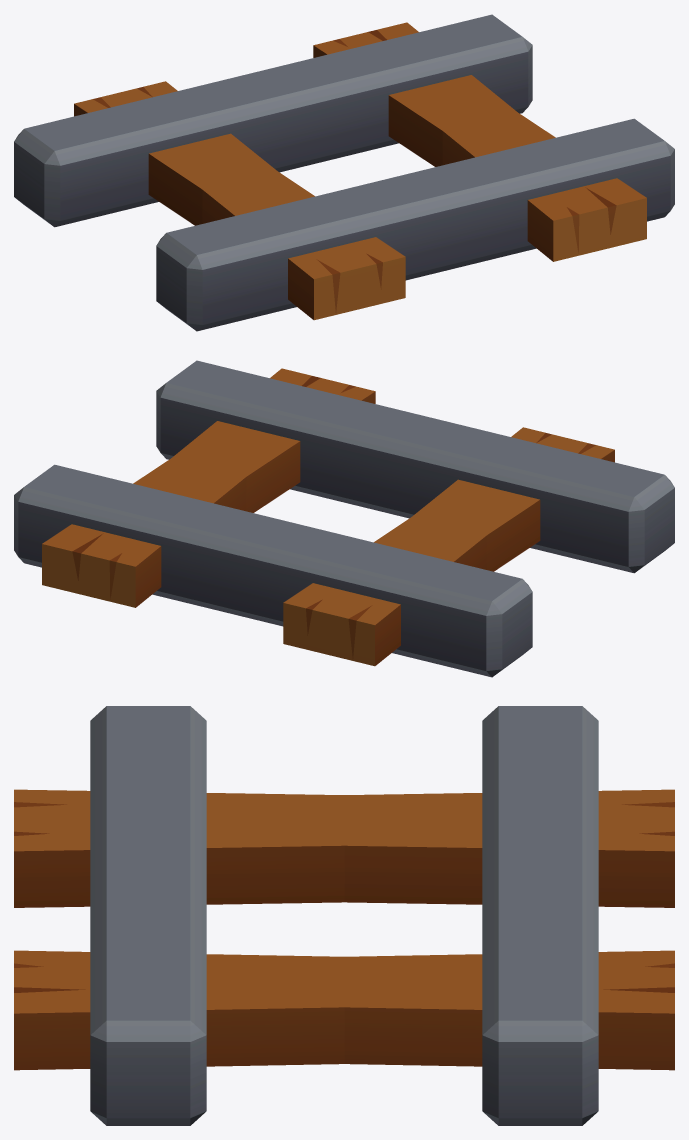
Rendered from railway_1.glb.
3 renders of one model, top to bottom at view 1: azimuth 30°, elevation 25°; view 2: azimuth 150°, elevation 25°; view 3: azimuth 270°, elevation 25°, orthographic. The views are drawn at different scales.
Visible parts, largest first — view 1: railway_1; view 2: railway_1; view 3: railway_1.
Part boxes in pixels (box(x1,y1,x2,y2)): railway_1: box(14, 14, 674, 331); railway_1: box(14, 360, 674, 677); railway_1: box(14, 706, 674, 1125).
Bounding box in the file's own units: 0.7123 × 0.1065 × 0.6061.
1 material, 1 textured.
